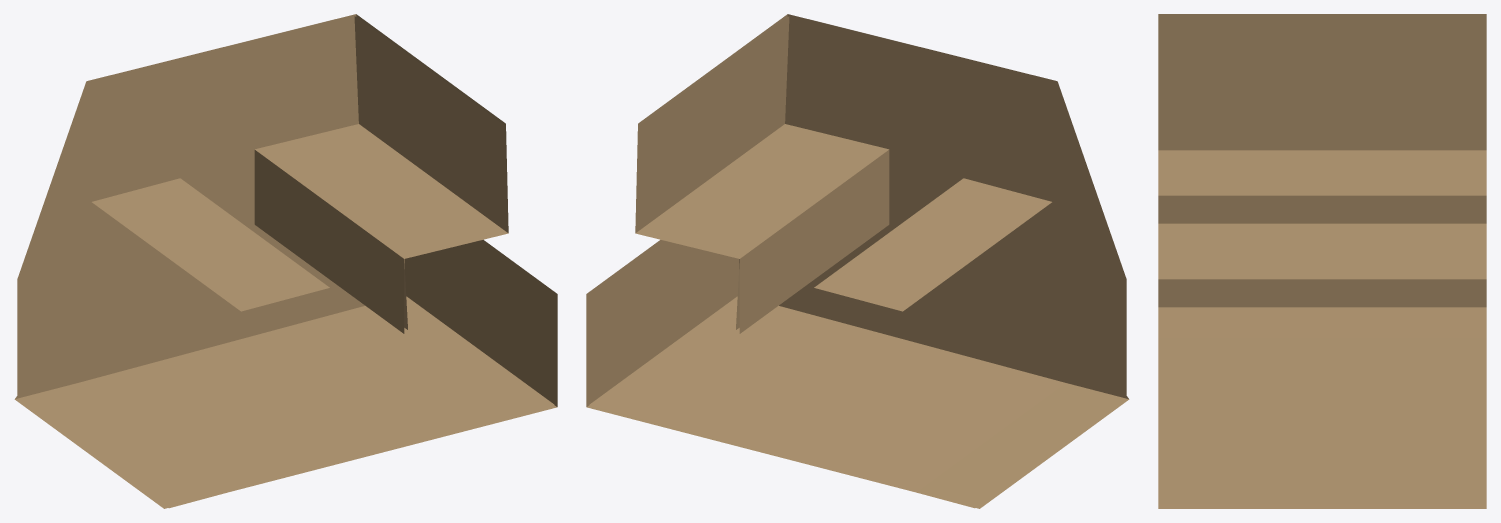
The picture shows the model from 3 angles, left to right: view 1: azimuth 30°, elevation 25°; view 2: azimuth 150°, elevation 25°; view 3: azimuth 270°, elevation 25°; orthographic projection. The views are drawn at different scales.
Visible parts, largest first — view 1: 0_0_1_1_3_2_3_1_0; view 2: 0_0_1_1_3_2_3_1_0; view 3: 0_0_1_1_3_2_3_1_0.
Part boxes in pixels (x1,y1,x2,y2): 0_0_1_1_3_2_3_1_0: (14,14,557,508); 0_0_1_1_3_2_3_1_0: (586,14,1129,508); 0_0_1_1_3_2_3_1_0: (1158,14,1486,508).
Bounding box in the file's own units: 40.94 × 30.09 × 27.
